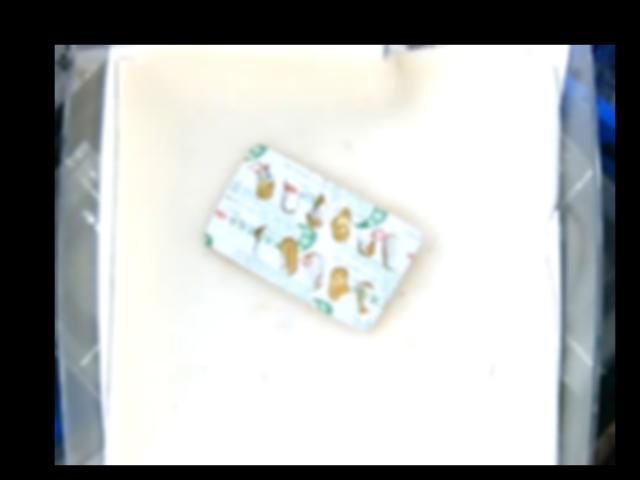Medicine: (199, 143, 421, 328)
